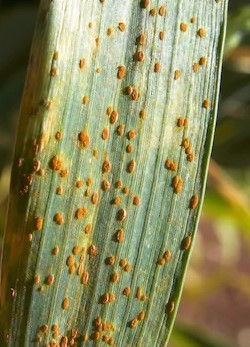Leaf Rust: (19, 22, 221, 334)
